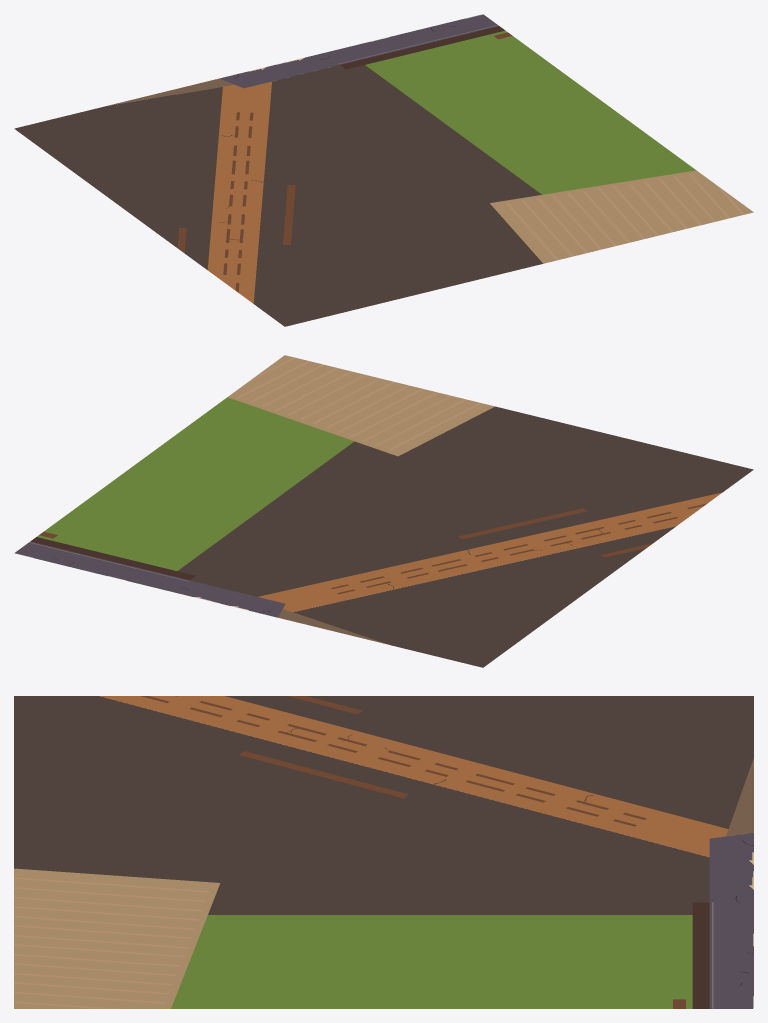
The model's file is crossing-10-4.glb.
3 views of the same model, one above another, from view 1: azimuth 30°, elevation 25°; view 2: azimuth 150°, elevation 25°; view 3: azimuth 270°, elevation 25° (orthographic). The views are drawn at different scales.
Visible parts, largest first — view 1: crossing-10-4; view 2: crossing-10-4; view 3: crossing-10-4.
Boxes of the visible parts, x1,y1,x2,y2 form: crossing-10-4: [14, 14, 753, 326]; crossing-10-4: [14, 355, 753, 667]; crossing-10-4: [14, 696, 753, 1008].
Size of the model in its own units: 100 by 0.016 by 100.
